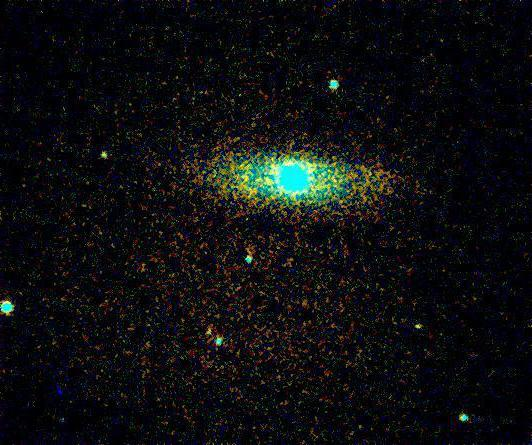star: (404, 312, 434, 342)
